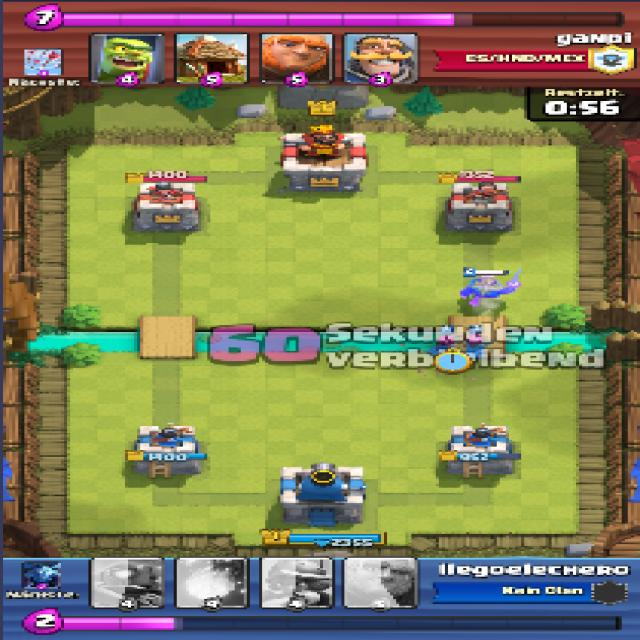Player-Archer: (462, 331, 492, 356), (431, 331, 459, 355)
Player-Knight: (456, 276, 523, 300)
